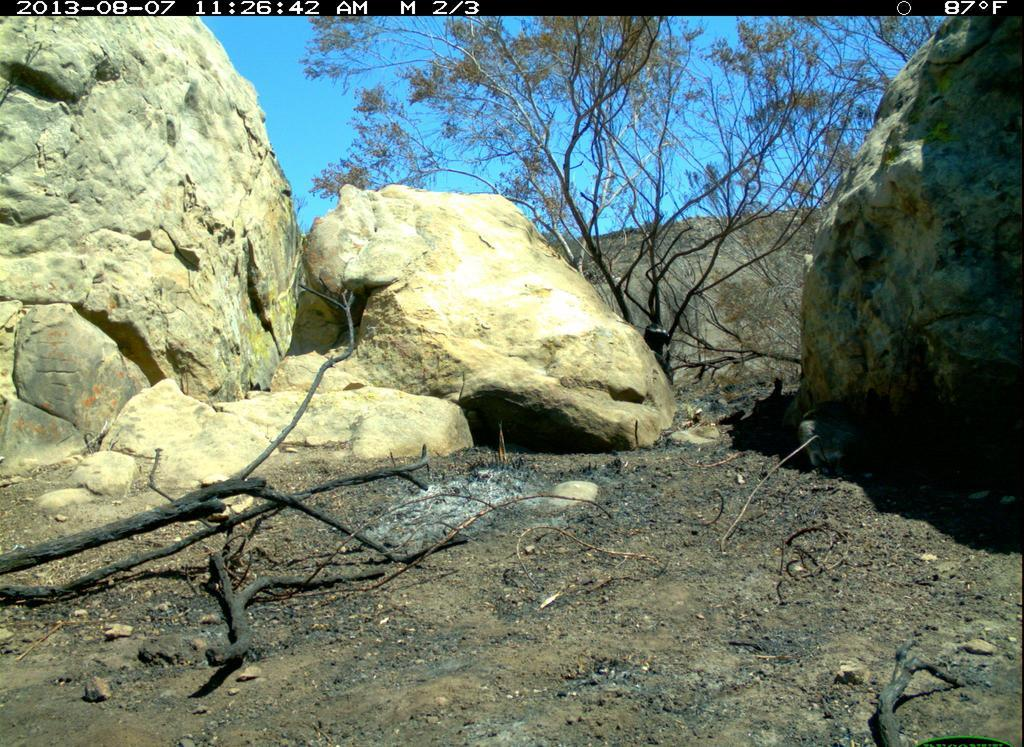rabbit: (794, 382, 904, 484)
